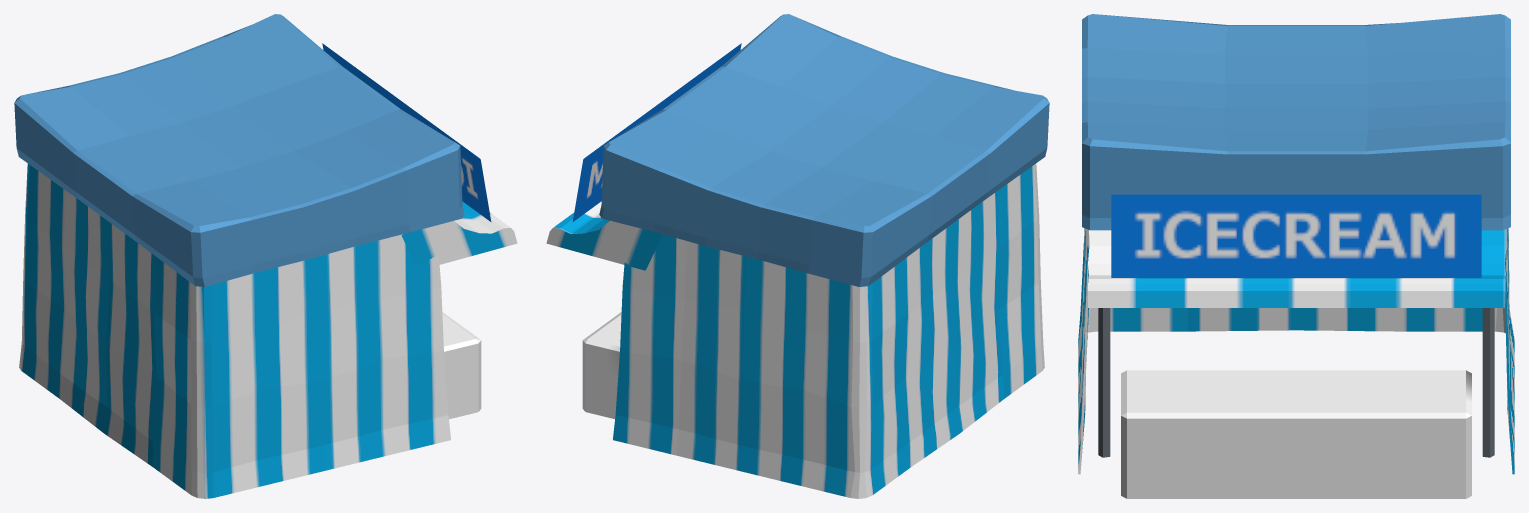
Rendered from rowyataiyakitori.fbx.
The picture shows the model from 3 angles, left to right: view 1: azimuth 30°, elevation 25°; view 2: azimuth 150°, elevation 25°; view 3: azimuth 270°, elevation 25°; orthographic projection. The views are drawn at different scales.
Visible parts, largest first — view 1: 立方体, Cube, Cube.001, 立方体.001, 平面; view 2: 立方体, Cube, Cube.001, 立方体.001, 平面; view 3: Cube, 立方体.001, 平面, Cube.001, 立方体, 円柱.
Boxes of the visible parts, bbox=[...] form: 立方体: bbox=[19, 163, 450, 498]; Cube: bbox=[14, 14, 464, 286]; Cube.001: bbox=[401, 201, 517, 267]; 立方体.001: bbox=[442, 312, 481, 419]; 平面: bbox=[322, 43, 491, 221]; 立方体: bbox=[613, 163, 1044, 498]; Cube: bbox=[599, 14, 1049, 286]; Cube.001: bbox=[546, 201, 662, 270]; 立方体.001: bbox=[582, 312, 621, 419]; 平面: bbox=[572, 43, 741, 221]; Cube: bbox=[1082, 14, 1510, 230]; 立方体.001: bbox=[1121, 370, 1471, 498]; 平面: bbox=[1111, 194, 1481, 277]; Cube.001: bbox=[1088, 229, 1506, 307]; 立方体: bbox=[1078, 228, 1514, 474]; 円柱: bbox=[1098, 308, 1494, 457].
Size of the model in its own units: 133 by 114 by 132.
3 materials, 3 textured.
